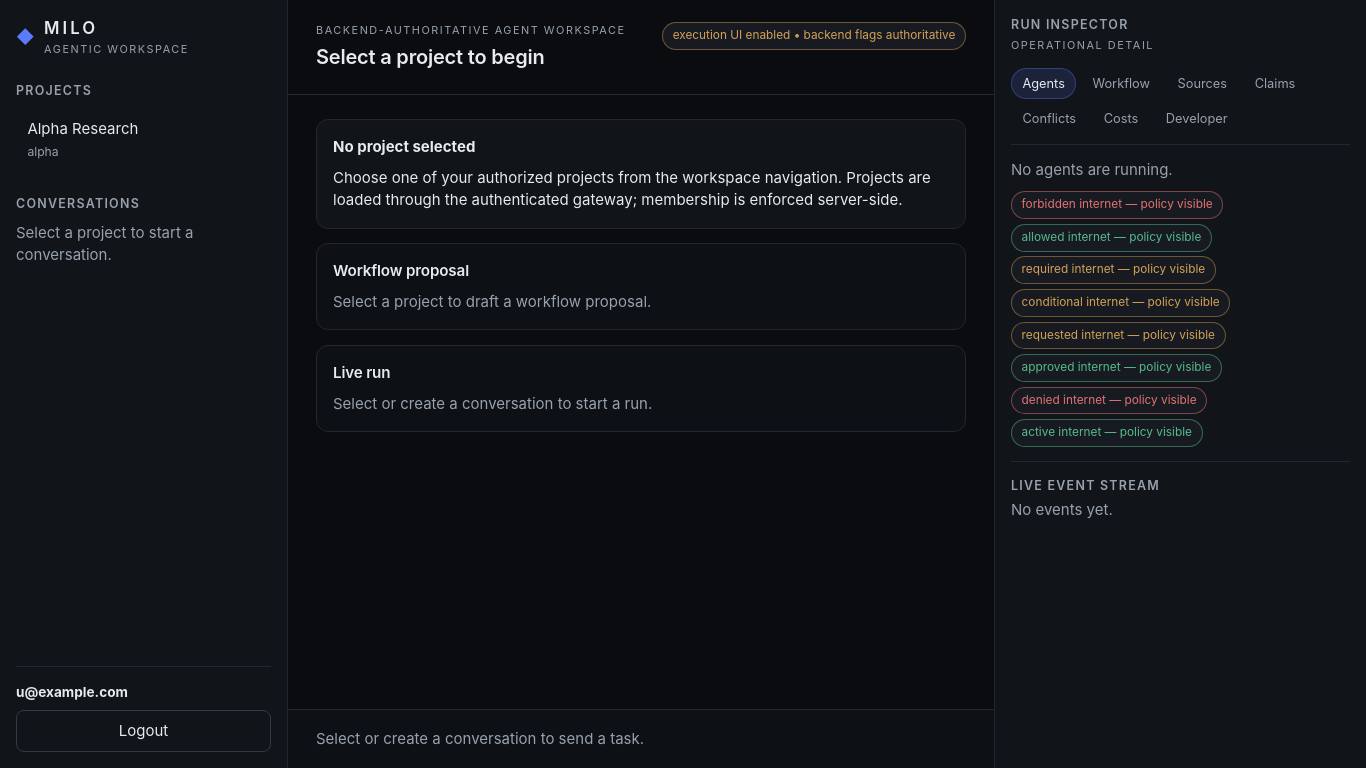
Scenario: durable run history › selecting an earlier run reopens it and remembers it for the conversation
Click the text "Alpha Research" at (83, 128), box [27,119,138,138]
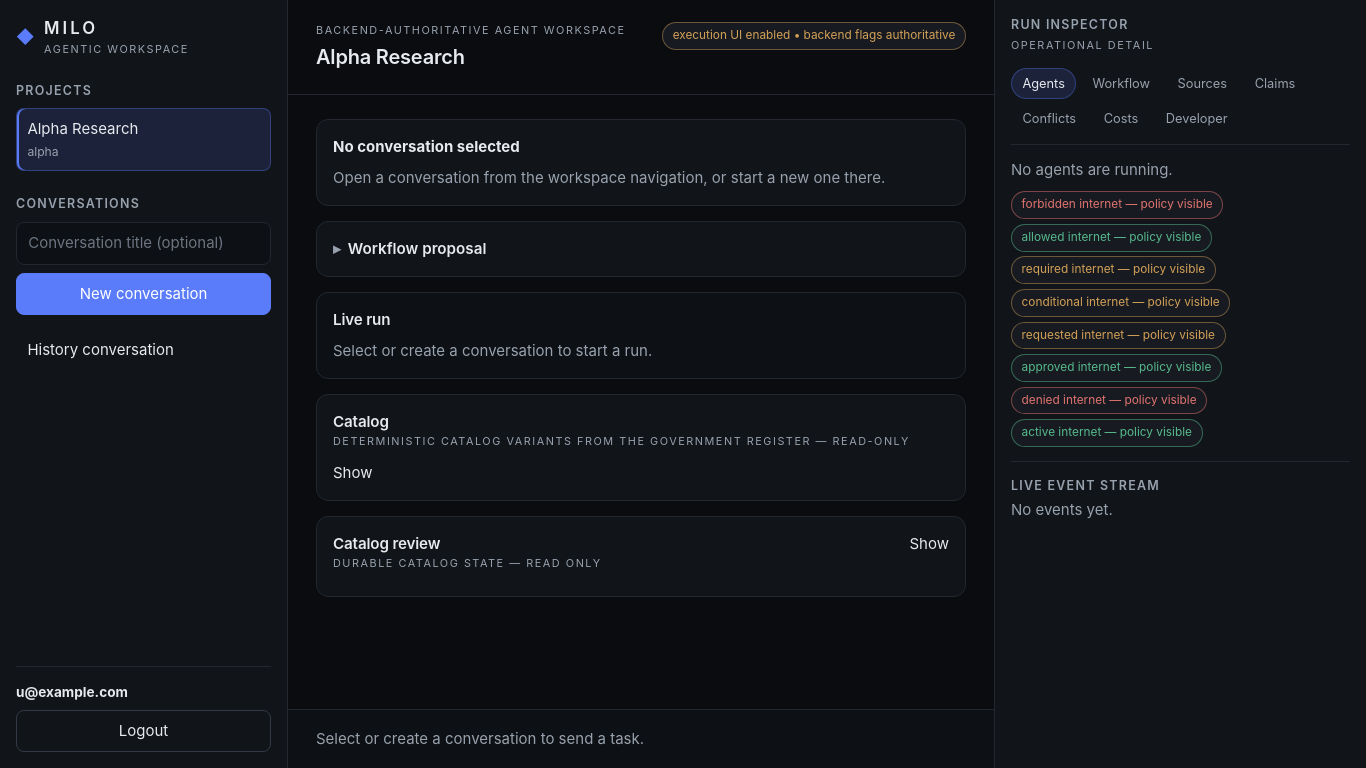
Click the button "History conversation" at (144, 350), box [16,329,271,371]
(page scrolled)
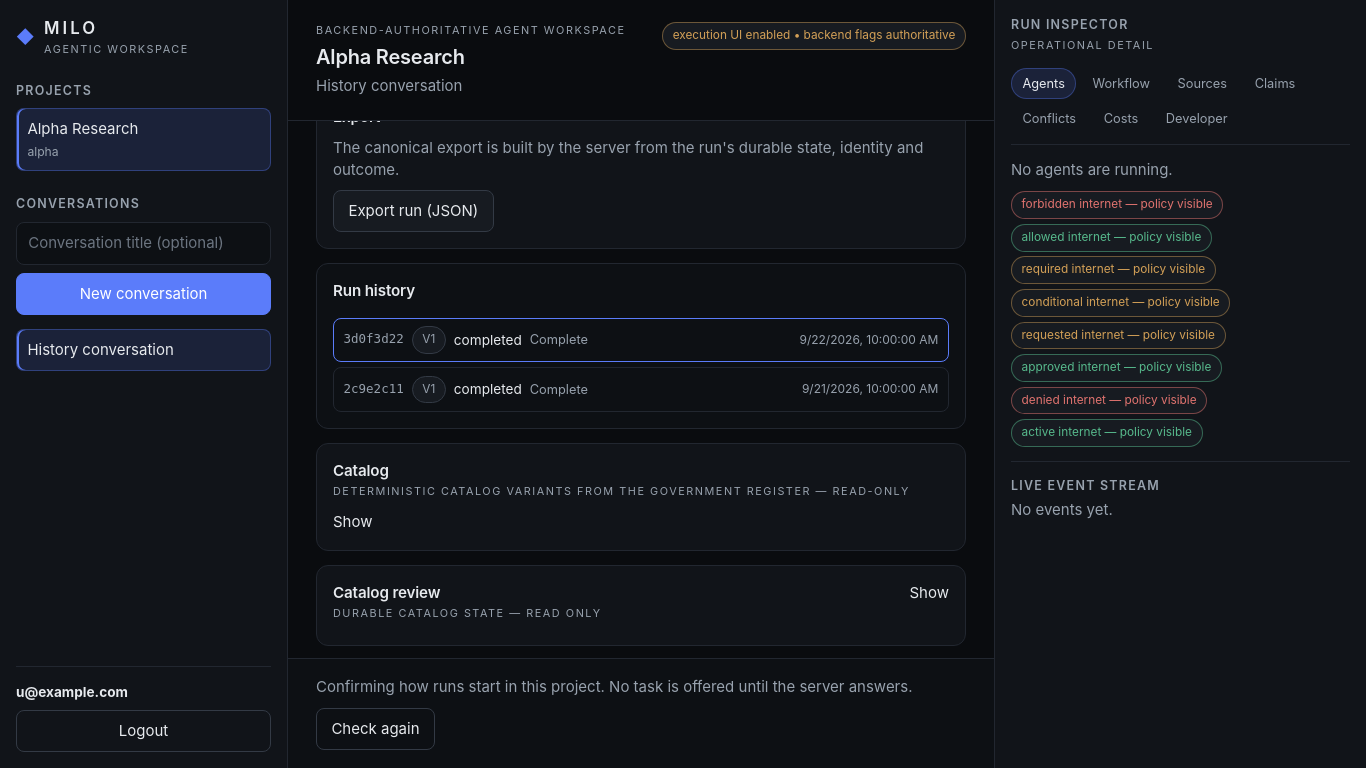
Click the button "2c9e2c11 V1 completed Complete 9/21/2026, 10:00:00 AM" at (374, 389), box [333,367,949,412]
(page scrolled)
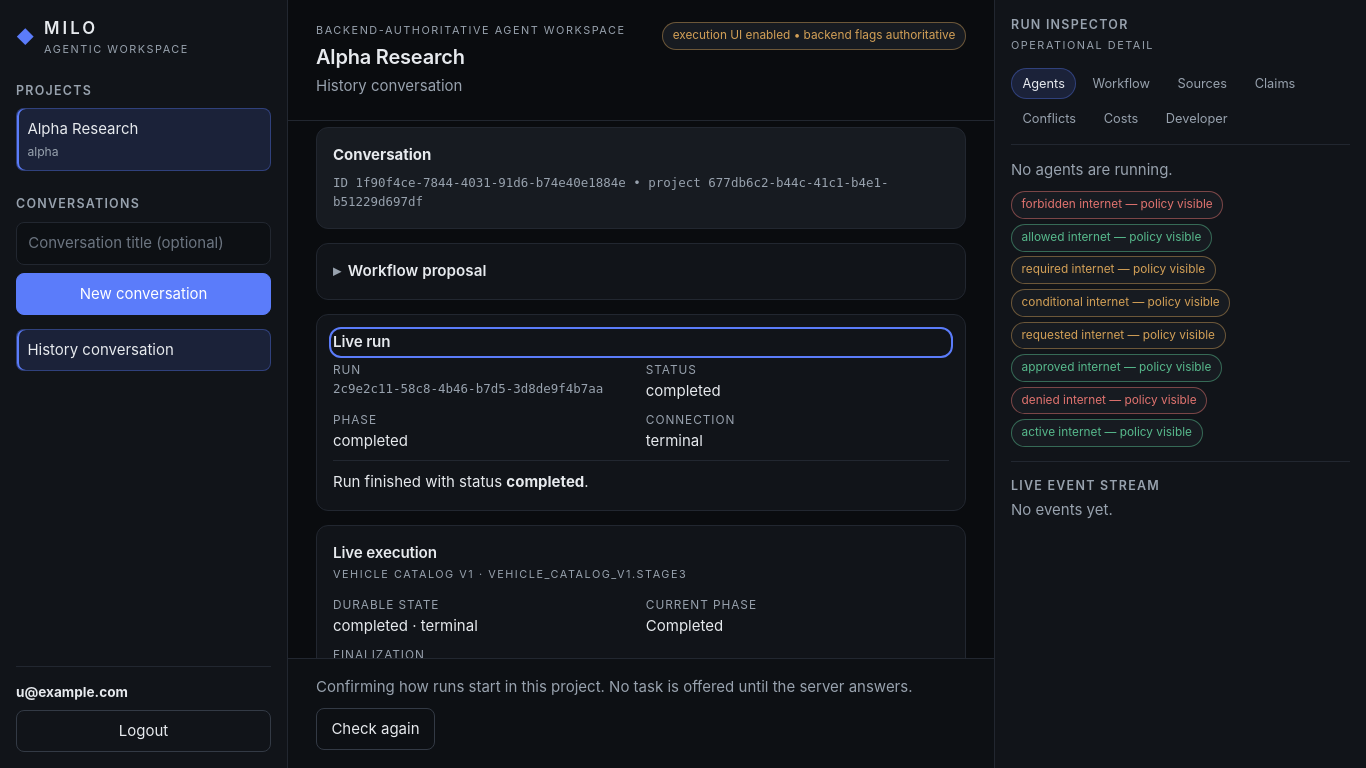
Check: the text "2c9e2c11-58c8-4b46-b7d5-3d8de9f4b7aa" is shown, box [333,380,636,399]
